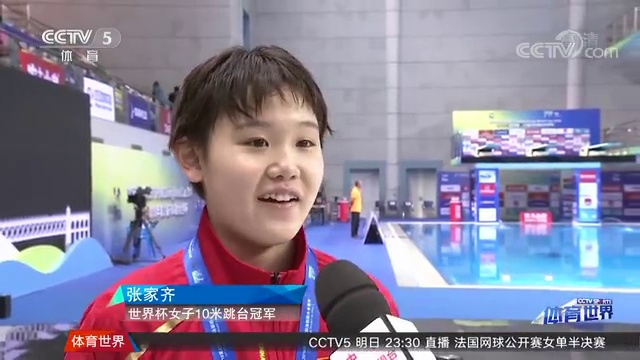face: (210, 98, 322, 242)
